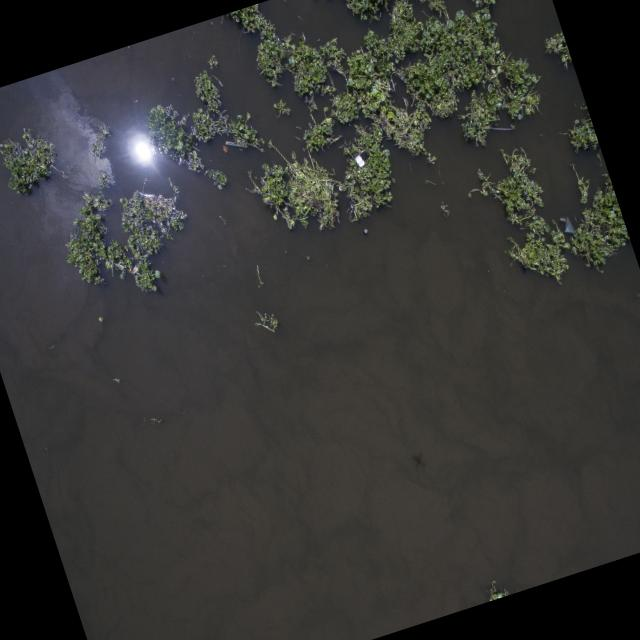Plastic: (560, 213, 576, 236), (354, 154, 366, 168)
